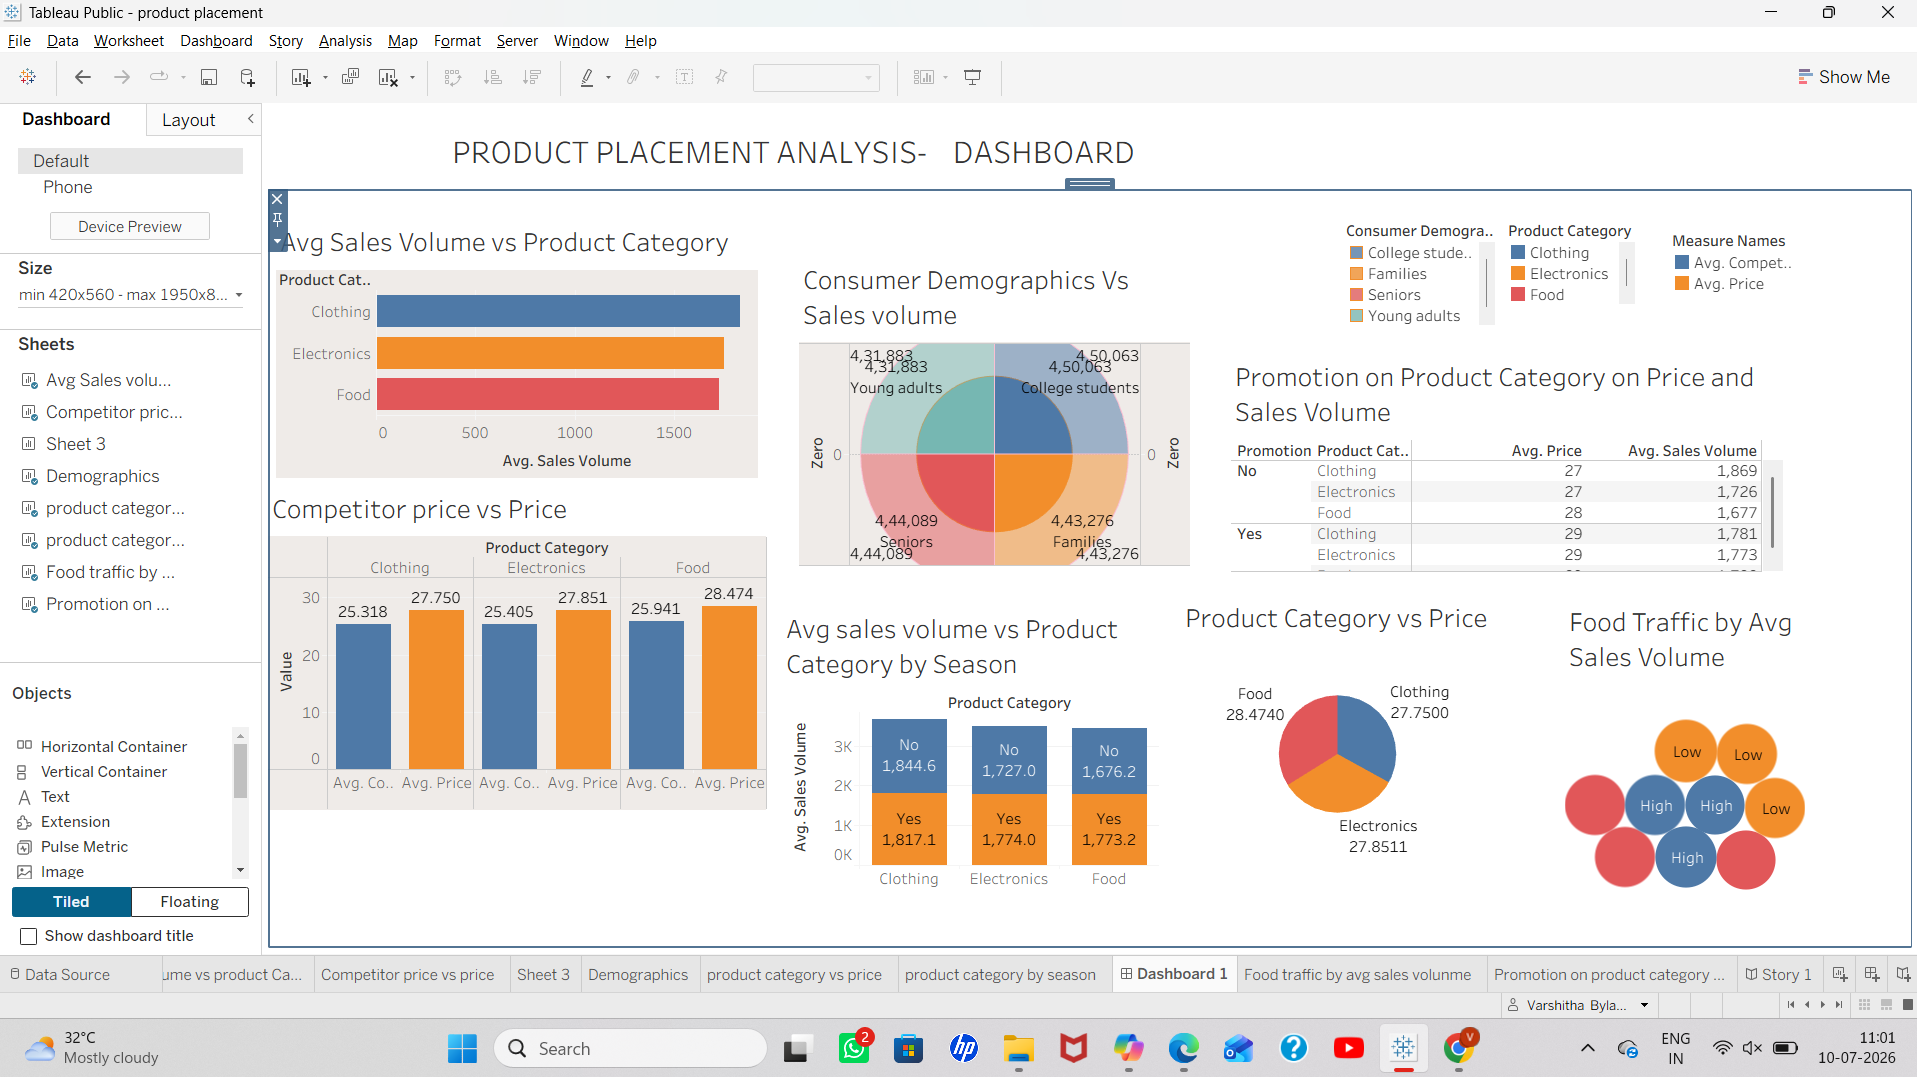

What the dashboard file says about the page in this screenshot:
{"tool":"tableau","page":{"name":"Dashboard 1","canvas":[1000,1000],"units":"permille","ordinal":0},"visuals":[{"type":"title","box":[4.8,9.4,990.3,94]},{"type":"worksheet","title":"Avg Sales volume vs product Category","mark":"Automatic","rows":["Product Category"],"cols":["Sales Volume"],"box":[8.5,137.7,290.9,304.2]},{"type":"legend","title":"Demographics","param":"[federated.1u0cn8v1k4nqhu16idpuo0nrd06a].[none:Consumer Demographics:nk]","box":[654.3,137.7,91.3,123.4]},{"type":"legend","title":"Avg Sales volume vs product Category","param":"[federated.1u0cn8v1k4nqhu16idpuo0nrd06a].[none:Product Category:nk]","box":[751.7,137.7,77.9,98.2]},{"type":"legend","title":"Competitor price vs price","param":"[federated.1u0cn8v1k4nqhu16idpuo0nrd06a].[:Measure Names]","box":[850.9,149.7,76.1,93.4]},{"type":"worksheet","title":"Demographics","mark":"Pie","rows":["Calculation_0745215025750016","Calculation_0745215025750016"],"box":[323.8,182,236.8,361.7]},{"type":"worksheet","title":"Promotion on product category on price and sales volume","mark":"Automatic","rows":["Promotion","Product Category"],"box":[584.7,296.1,357.4,255]},{"type":"worksheet","title":"Competitor price vs price","mark":"Automatic","cols":["Product Category"],"box":[3.6,451.5,301.3,379.6]},{"type":"worksheet","title":"product category vs price","mark":"Pie","box":[554.6,579.3,188.7,312.6]},{"type":"worksheet","title":"Food traffic by avg sales volunme","mark":"Circle","box":[786.6,584,204.3,381.9]},{"type":"worksheet","title":"product category by season","mark":"Automatic","rows":["Sales Volume"],"cols":["Product Category"],"box":[314.1,592.8,227.6,332.9]}]}

Visuals, with their boxes on the dashboard's canvas, which has no fixed pixel size, in thousandths of its width and height (x1, y1, x2, y2). These are canvas units, not pixel positions in the 1917x1077 screenshot, which may show the page scaled, cropped or inside an application window:
title: 5,9,995,103
"Avg Sales volume vs product Category" worksheet: 8,138,299,442
"Demographics" legend: 654,138,746,261
"Avg Sales volume vs product Category" legend: 752,138,830,236
"Competitor price vs price" legend: 851,150,927,243
"Demographics" worksheet (Pie marks): 324,182,561,544
"Promotion on product category on price and sales volume" worksheet: 585,296,942,551
"Competitor price vs price" worksheet: 4,452,305,831
"product category vs price" worksheet (Pie marks): 555,579,743,892
"Food traffic by avg sales volunme" worksheet (Circle marks): 787,584,991,966
"product category by season" worksheet: 314,593,542,926
